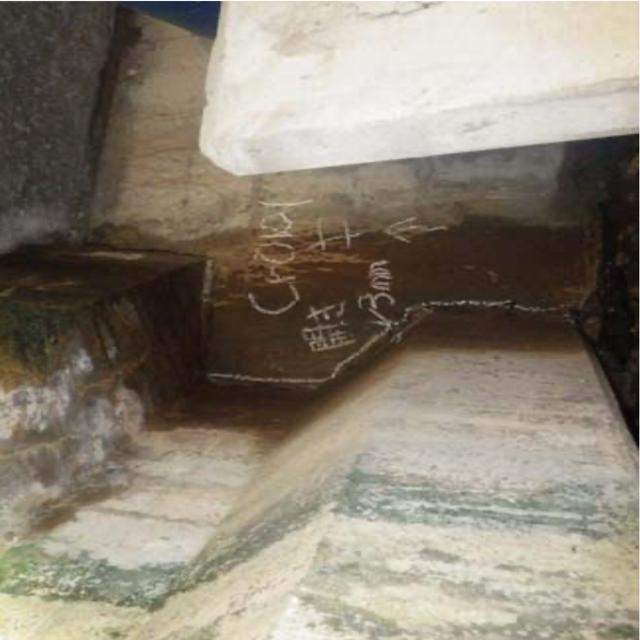leakage: (20, 212, 597, 432)
